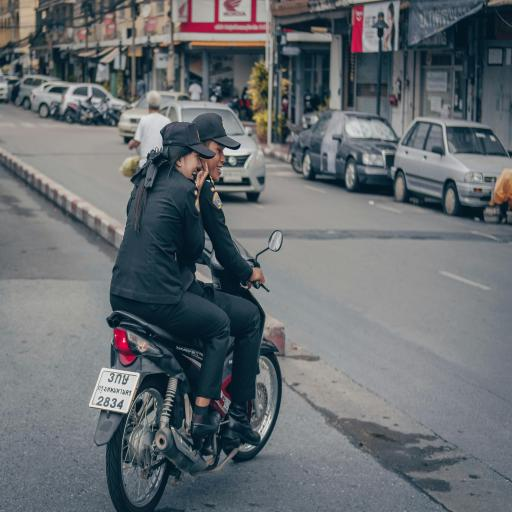place: (98, 368, 130, 414)
